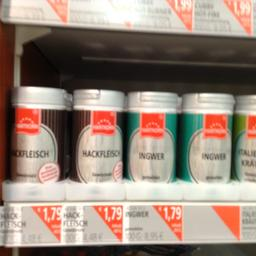spices: (9, 84, 65, 180), (70, 86, 124, 180), (124, 89, 178, 182), (180, 92, 234, 180), (233, 92, 255, 180)
